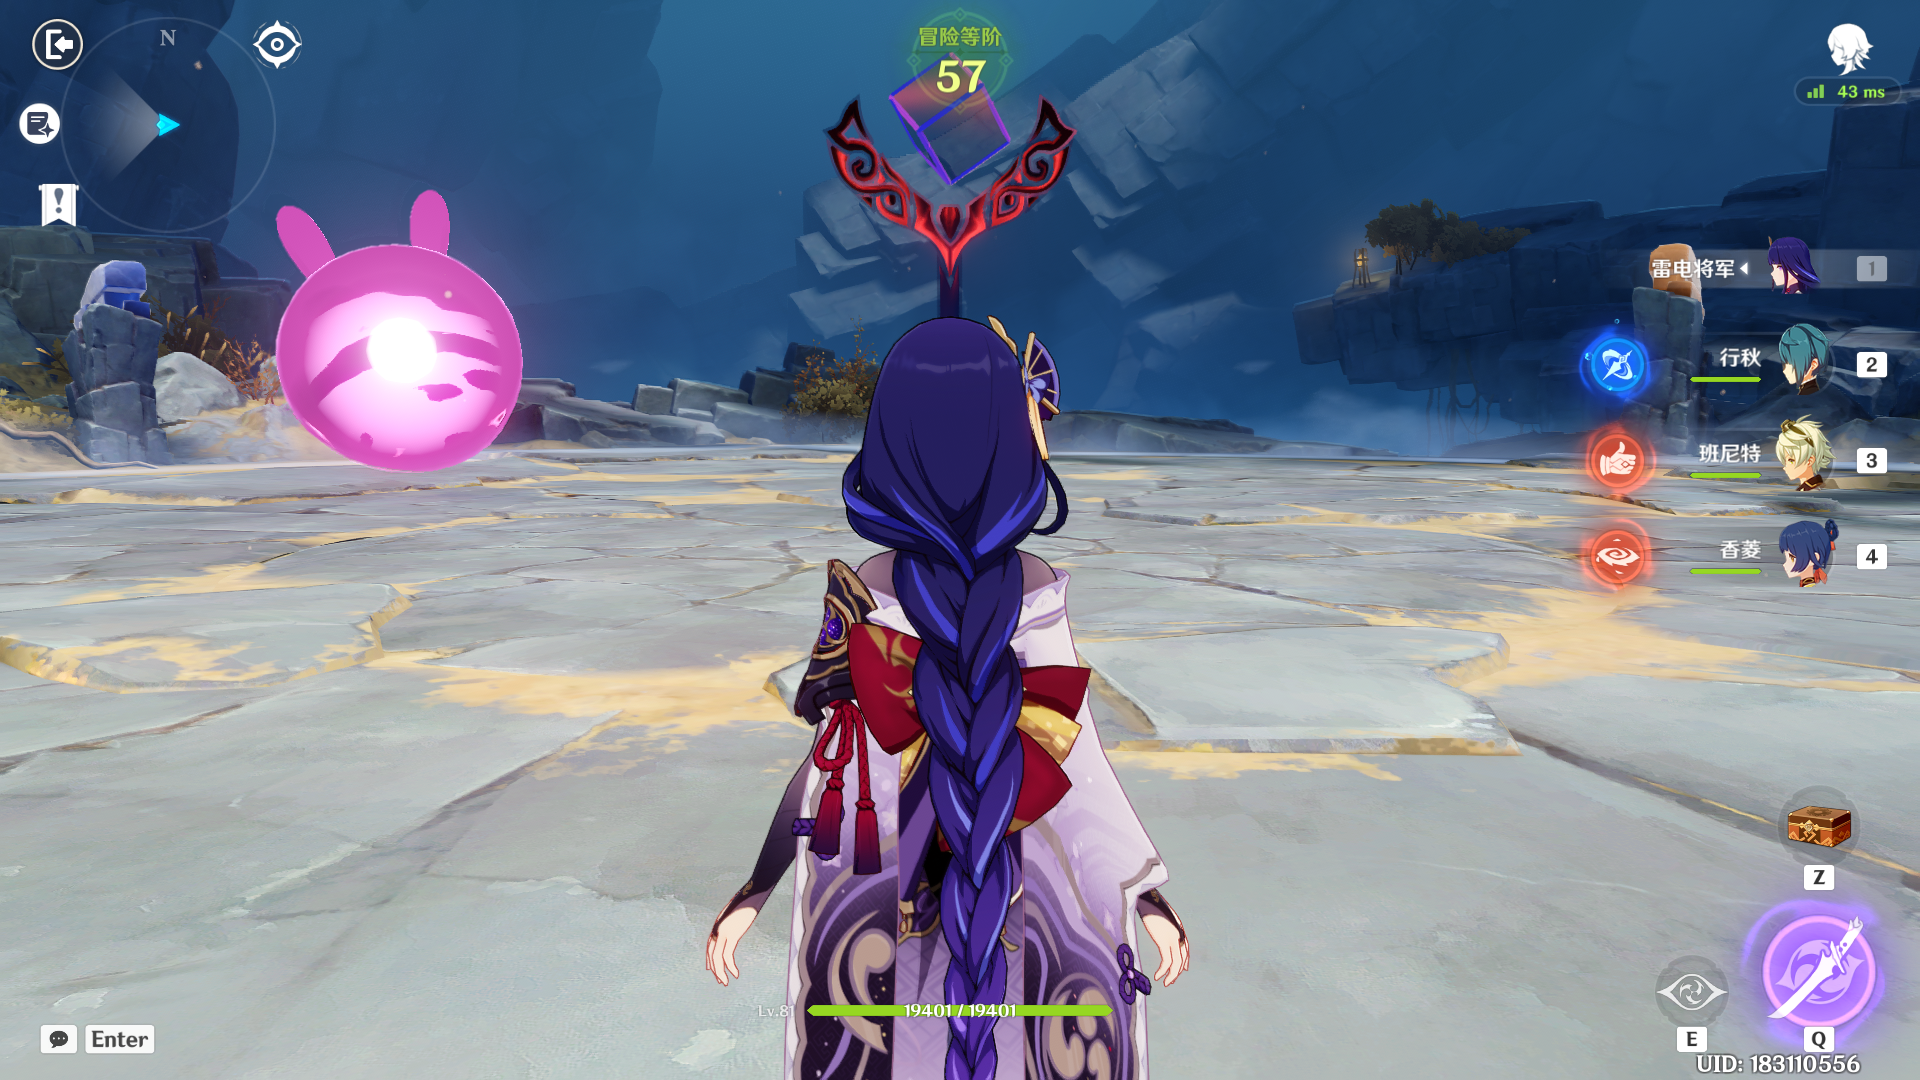character: (727, 272, 1230, 1080)
